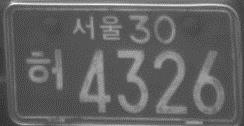0: (152, 15, 177, 45)
2: (152, 49, 188, 116)
3: (115, 47, 150, 115), (127, 13, 152, 45)
4: (77, 48, 112, 113)
6: (189, 48, 227, 117)
서울_O: (71, 13, 123, 43)
허: (25, 47, 66, 91)
